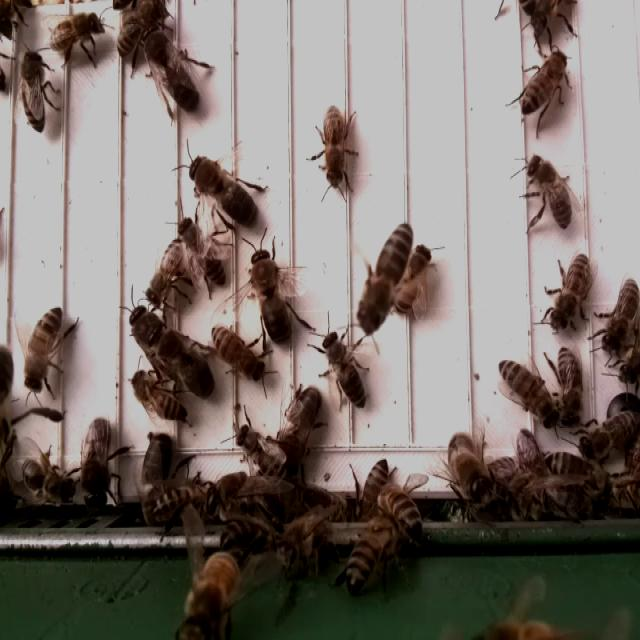Drone: (144, 317, 218, 402), (142, 22, 203, 116), (186, 154, 261, 228), (247, 245, 295, 348), (277, 384, 324, 479), (78, 412, 116, 515)
Worker: (359, 221, 413, 330), (498, 356, 557, 433), (22, 303, 63, 399), (517, 47, 570, 120), (129, 367, 189, 427), (210, 324, 268, 386), (322, 331, 367, 410), (547, 253, 593, 330), (142, 234, 190, 307), (526, 154, 570, 232), (178, 216, 225, 288), (237, 423, 289, 484), (115, 0, 168, 59), (576, 411, 640, 459), (18, 454, 77, 506), (603, 272, 640, 351), (18, 47, 50, 138), (553, 347, 587, 431), (321, 100, 350, 193), (50, 9, 105, 58), (395, 244, 430, 319)
